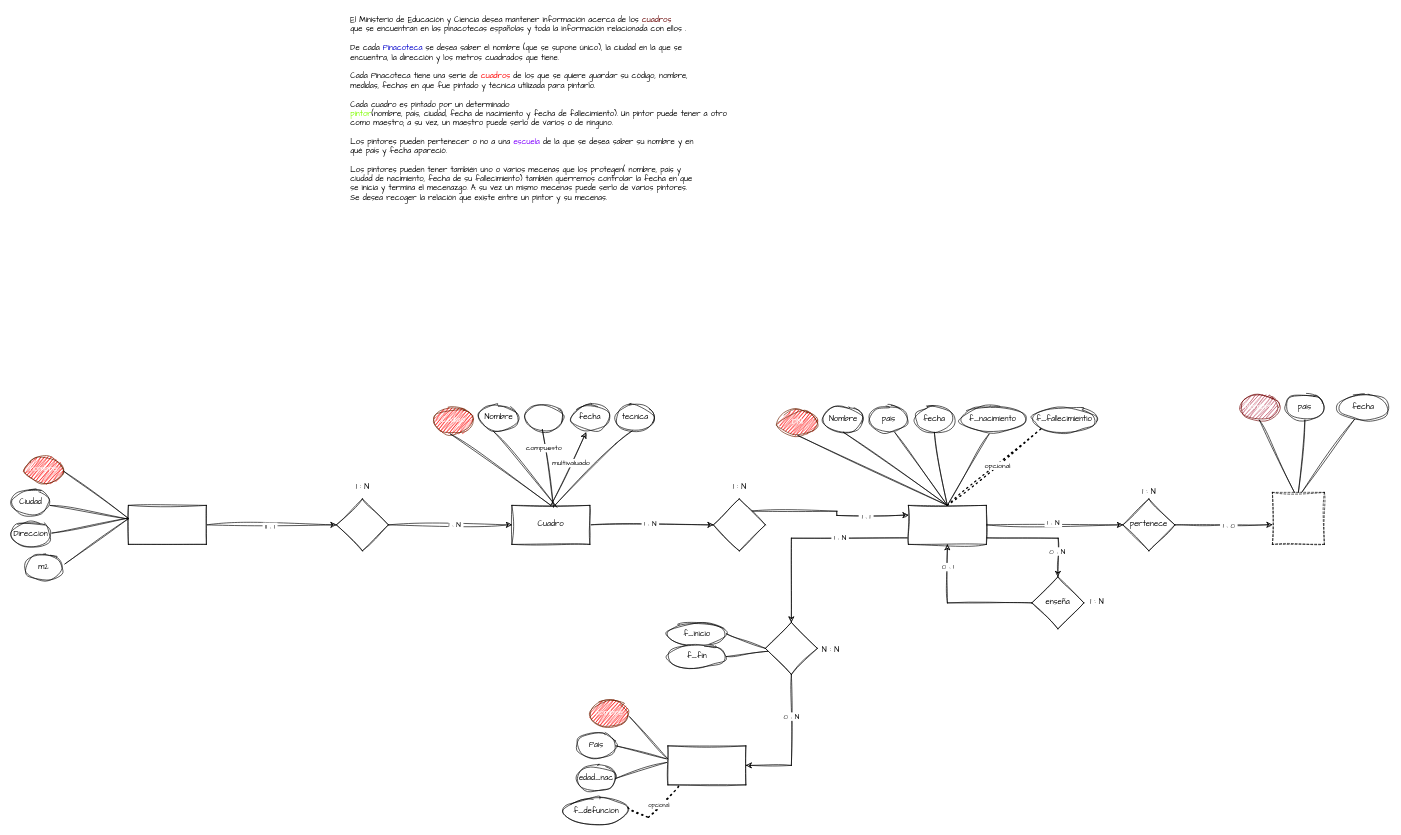
This 1401x835 diagram has some shape labels left out. Each missing label, with the centre of its shape:
"escuela" goes at point 1298,518.
"mecenas" goes at point 706,765.
"medidas h * b" goes at point 544,417.
"Pinacoteca" goes at point 167,524.
"pinta" goes at point 739,524.
"Pintor" goes at point 947,524.
"protege" goes at point 791,648.
"tiene" goes at point 362,524.
